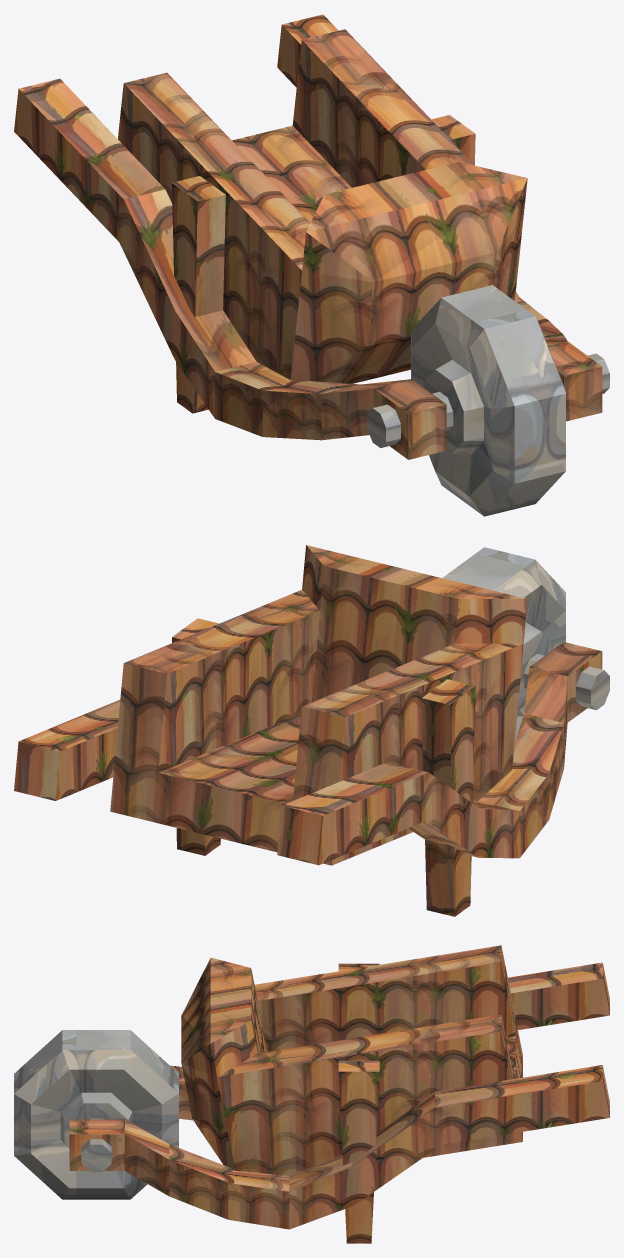
Rendered from wheelbarrow.gltf.
3 views of the same model, one above another, from view 1: azimuth 30°, elevation 25°; view 2: azimuth 150°, elevation 25°; view 3: azimuth 270°, elevation 25° (orthographic). The views are drawn at different scales.
Parts seen in each view (by area): view 1: wheelbarrow; view 2: wheelbarrow; view 3: wheelbarrow.
Boxes of the visible parts, x1,y1,x2,y2 form: wheelbarrow: [14, 14, 609, 516]; wheelbarrow: [14, 545, 609, 916]; wheelbarrow: [14, 945, 609, 1243].
Bounding box in the file's own units: 0.238 × 0.1884 × 0.5057.
Materials: 2 (2 with a texture image).
